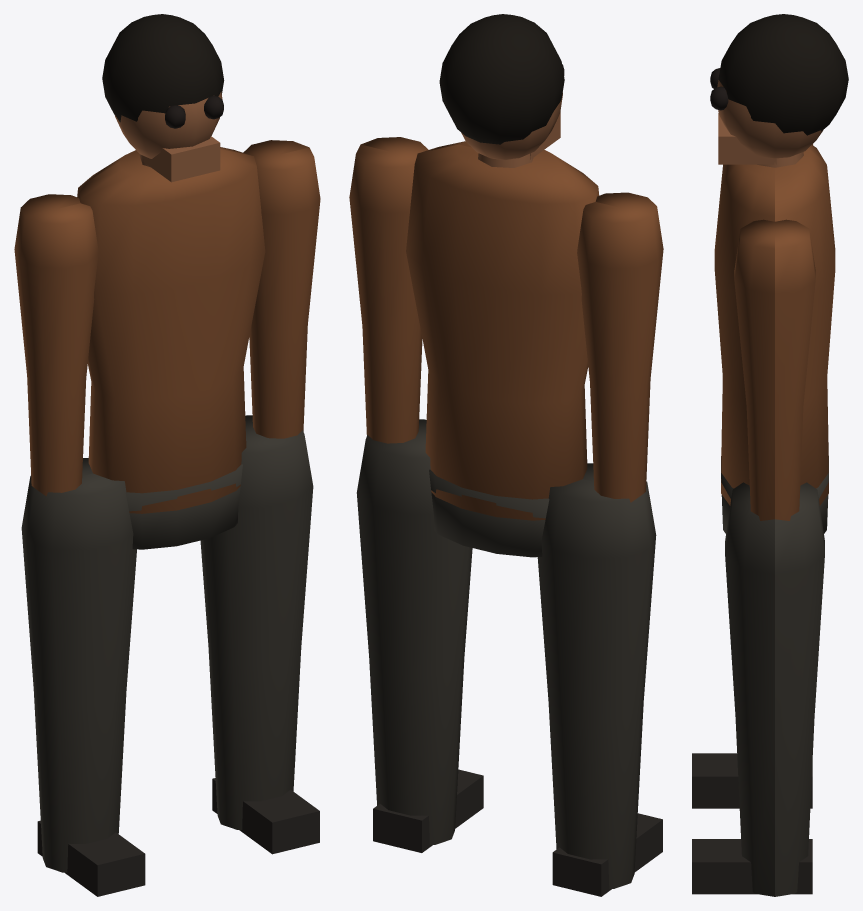
Rendered from survivor_mateo.glb.
3 renders of one model, left to right at view 1: azimuth 30°, elevation 25°; view 2: azimuth 150°, elevation 25°; view 3: azimuth 270°, elevation 25°, orthographic. The views are drawn at different scales.
Visible parts, largest first — view 1: survivor_mateo; view 2: survivor_mateo; view 3: survivor_mateo.
Part boxes in pixels (x1,y1,x2,y2): survivor_mateo: [14, 14, 320, 896]; survivor_mateo: [349, 14, 663, 896]; survivor_mateo: [692, 14, 848, 896].
Size of what is drawn, in the model's own units: 0.6818 by 1.8 by 0.3119.
